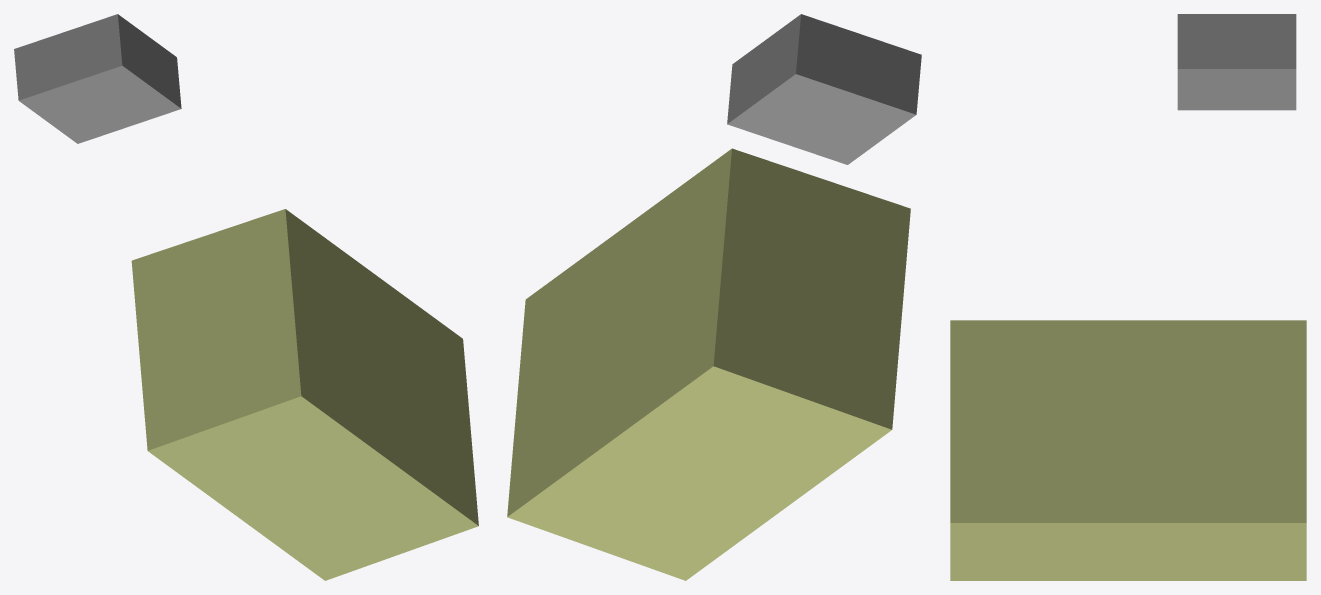
3 renders of one model, left to right at view 1: azimuth 30°, elevation 25°; view 2: azimuth 150°, elevation 25°; view 3: azimuth 270°, elevation 25°, orthographic. The views are drawn at different scales.
Visible parts, largest first — view 1: 0_2_3_3_3_1_0_1_3_1_3; view 2: 0_2_3_3_3_1_0_1_3_1_3; view 3: 0_2_3_3_3_1_0_1_3_1_3.
Part boxes in pixels (x1=…): 0_2_3_3_3_1_0_1_3_1_3: x1=14, y1=14, x2=478, y2=580; 0_2_3_3_3_1_0_1_3_1_3: x1=507, y1=14, x2=921, y2=580; 0_2_3_3_3_1_0_1_3_1_3: x1=950, y1=14, x2=1306, y2=580.
Size of the model in its own units: 8.56 by 12.56 by 9.
